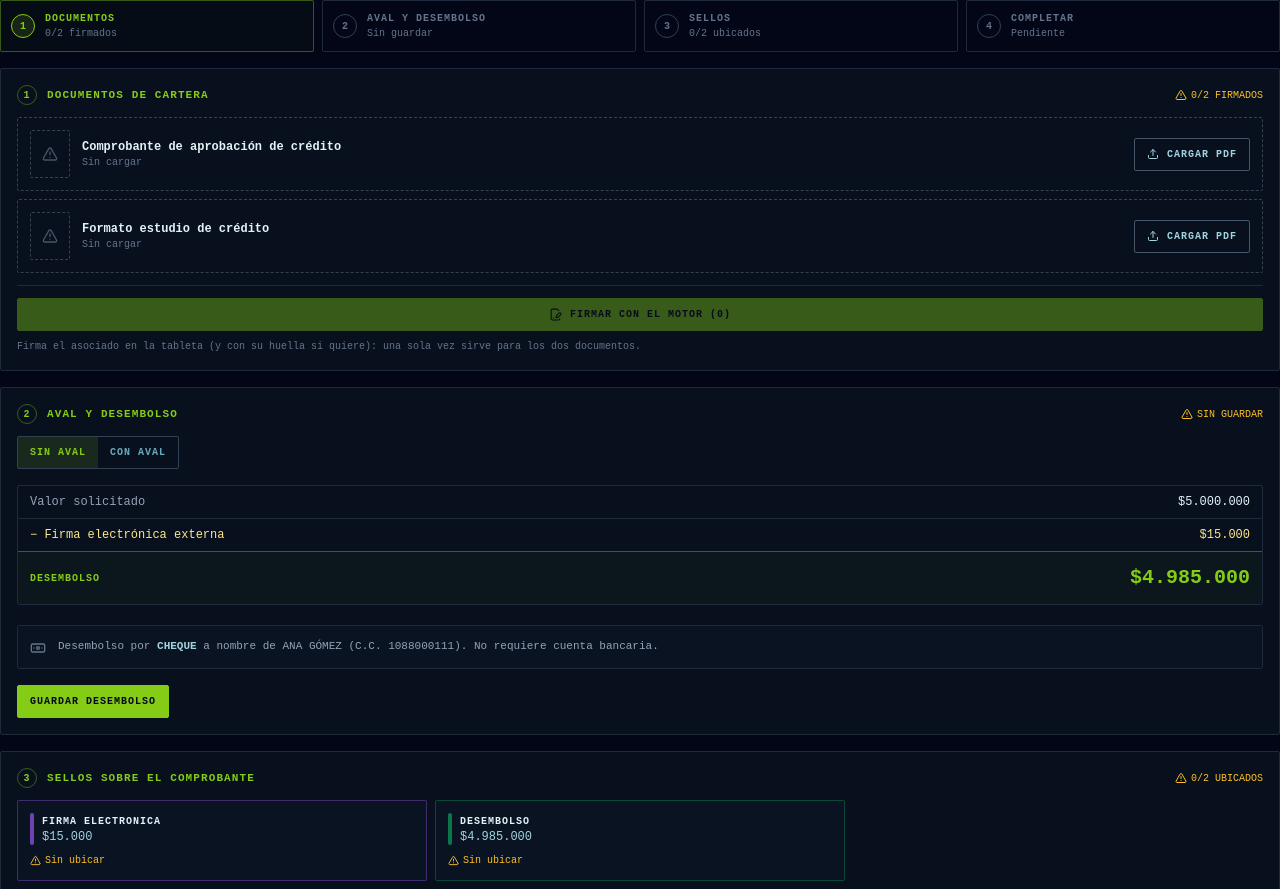
Test: Cierre de Cartera — aval y desembolso › marcar el aval pregunta el porcentaje y recalcula al escribirlo
This screenshot has width=1280, height=889.
Step 1. Click the button "CON AVAL" → [138, 452], box [98,437,178,468]
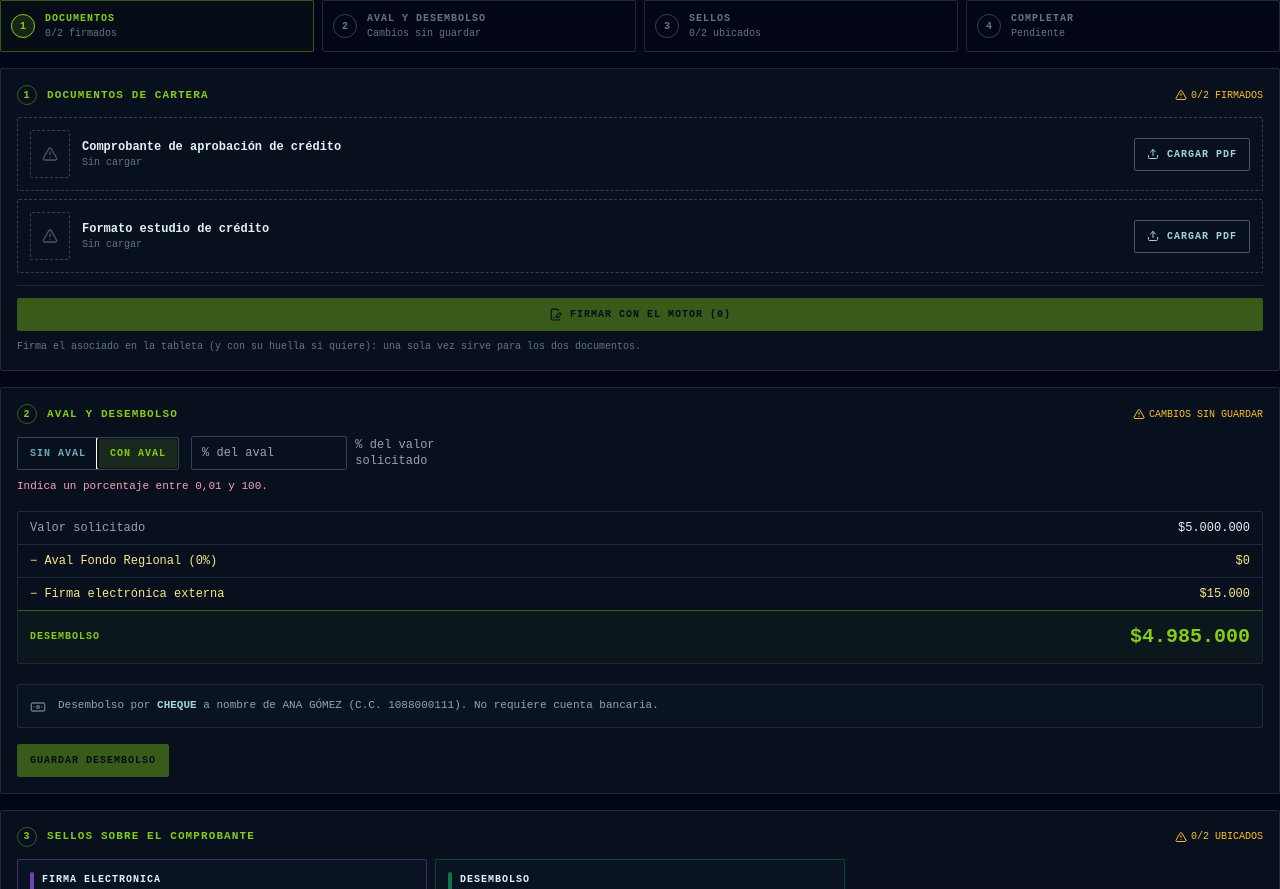
Step 2. Type "10" into the number field named "PORCENTAJE DEL AVAL" → [269, 453], box [191,436,347,470]
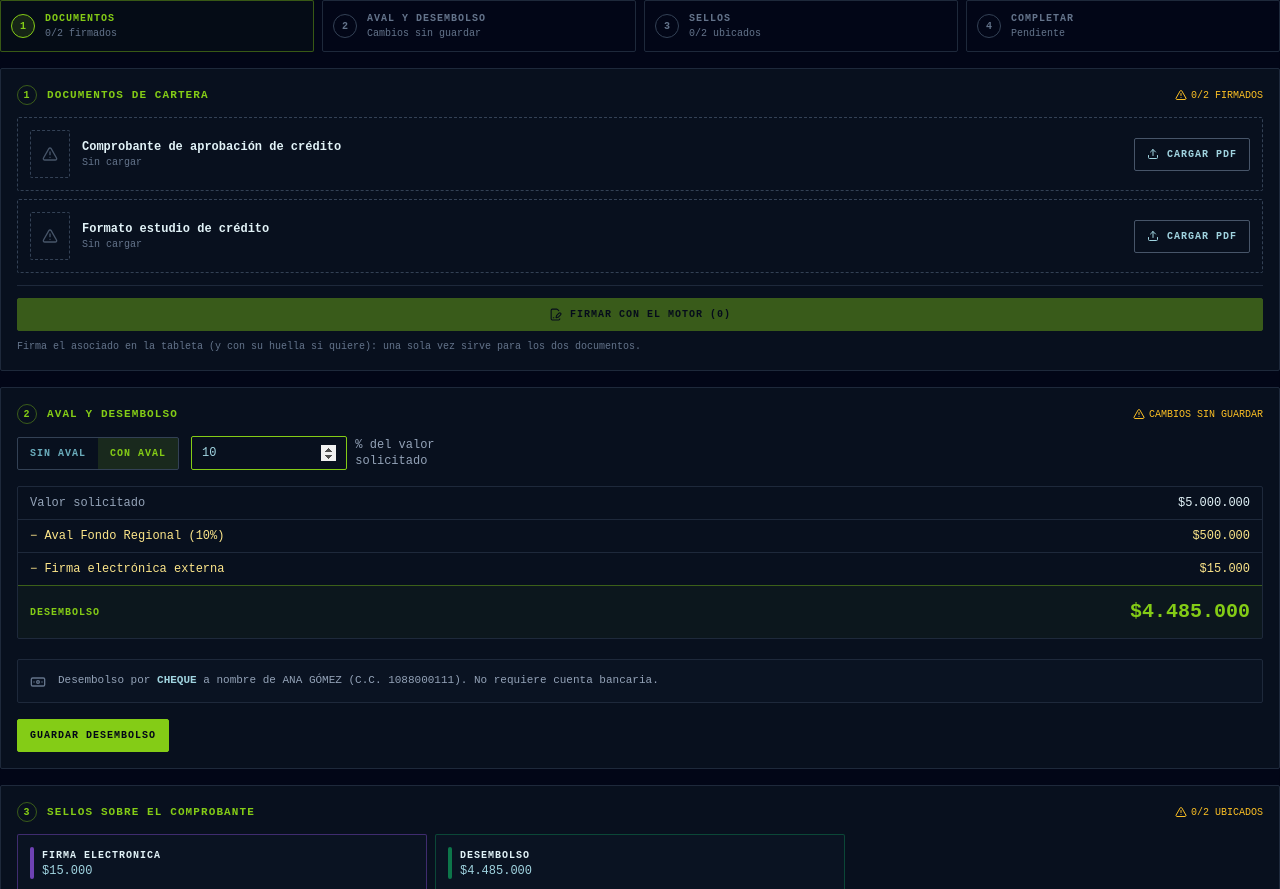
Expected: the text "− Aval Fondo Regional (10%)" shows "$500.000", [1192,529,1250,543]
Expected: the text "DESEMBOLSO" below "− Firma electrónica externa" shows "$4.485.000", [1130,600,1250,623]
